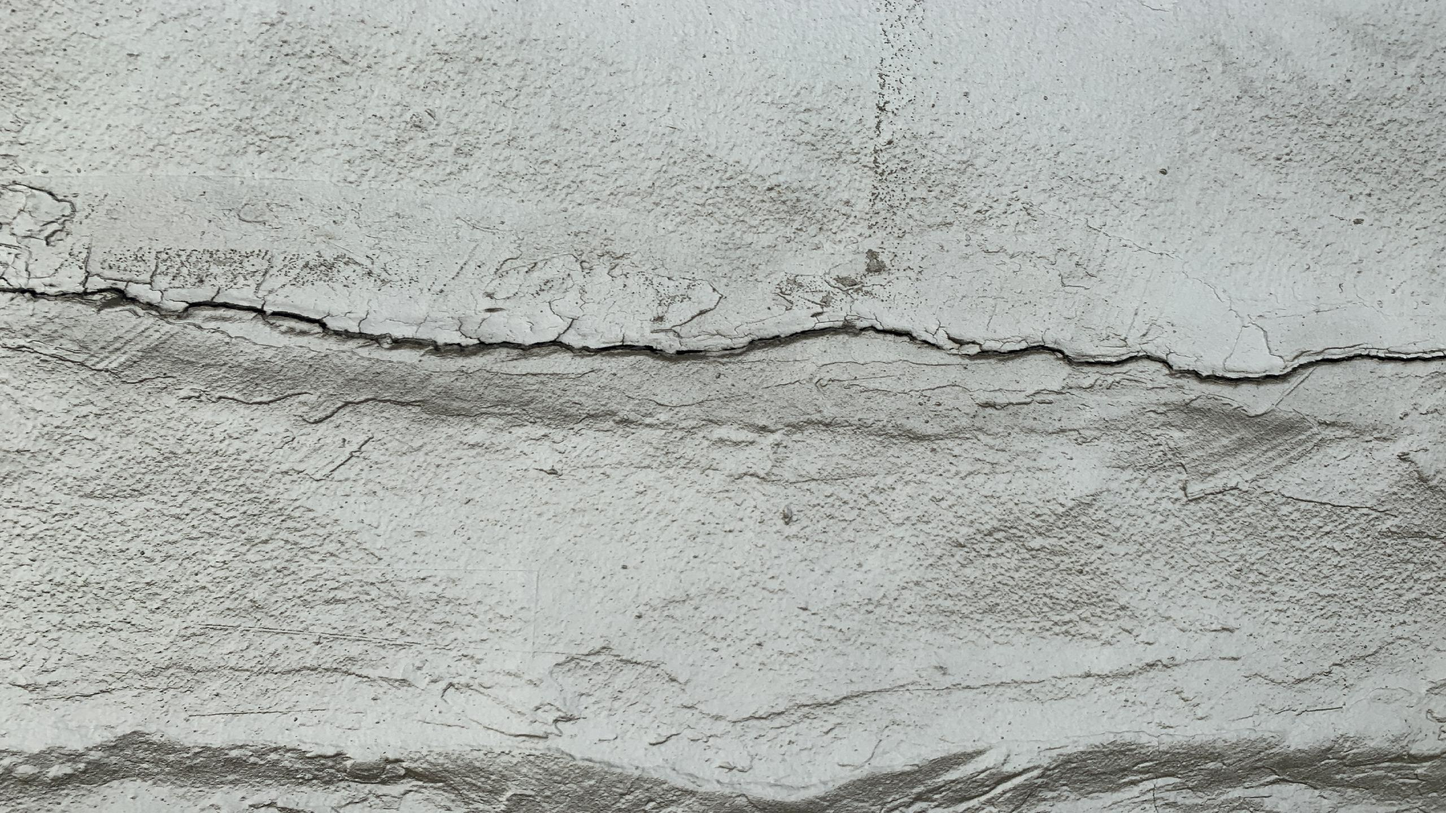crack: (10, 270, 1438, 395)
